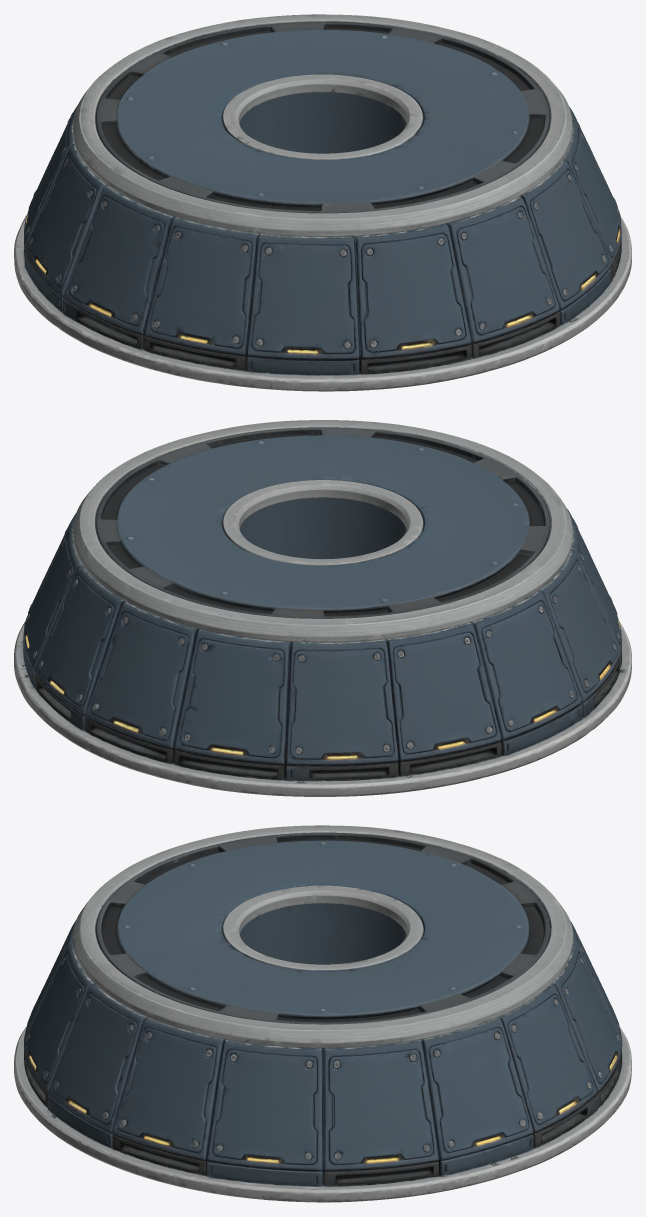
The model's file is core-h31-texture4k.glb.
3 renders of one model, top to bottom at view 1: azimuth 30°, elevation 25°; view 2: azimuth 150°, elevation 25°; view 3: azimuth 270°, elevation 25°, orthographic.
Visible parts, largest first — view 1: tripo_node_557182ac-4d62-4d4b-a9a0-ec5ae634775f; view 2: tripo_node_557182ac-4d62-4d4b-a9a0-ec5ae634775f; view 3: tripo_node_557182ac-4d62-4d4b-a9a0-ec5ae634775f.
Part boxes in pixels (<box>): tripo_node_557182ac-4d62-4d4b-a9a0-ec5ae634775f: <box>14,14,631,391</box>; tripo_node_557182ac-4d62-4d4b-a9a0-ec5ae634775f: <box>14,420,631,796</box>; tripo_node_557182ac-4d62-4d4b-a9a0-ec5ae634775f: <box>14,825,631,1202</box>.
Bounding box in the file's own units: 0.9788 × 0.2652 × 0.9775.
Materials: 1 (1 with a texture image).
